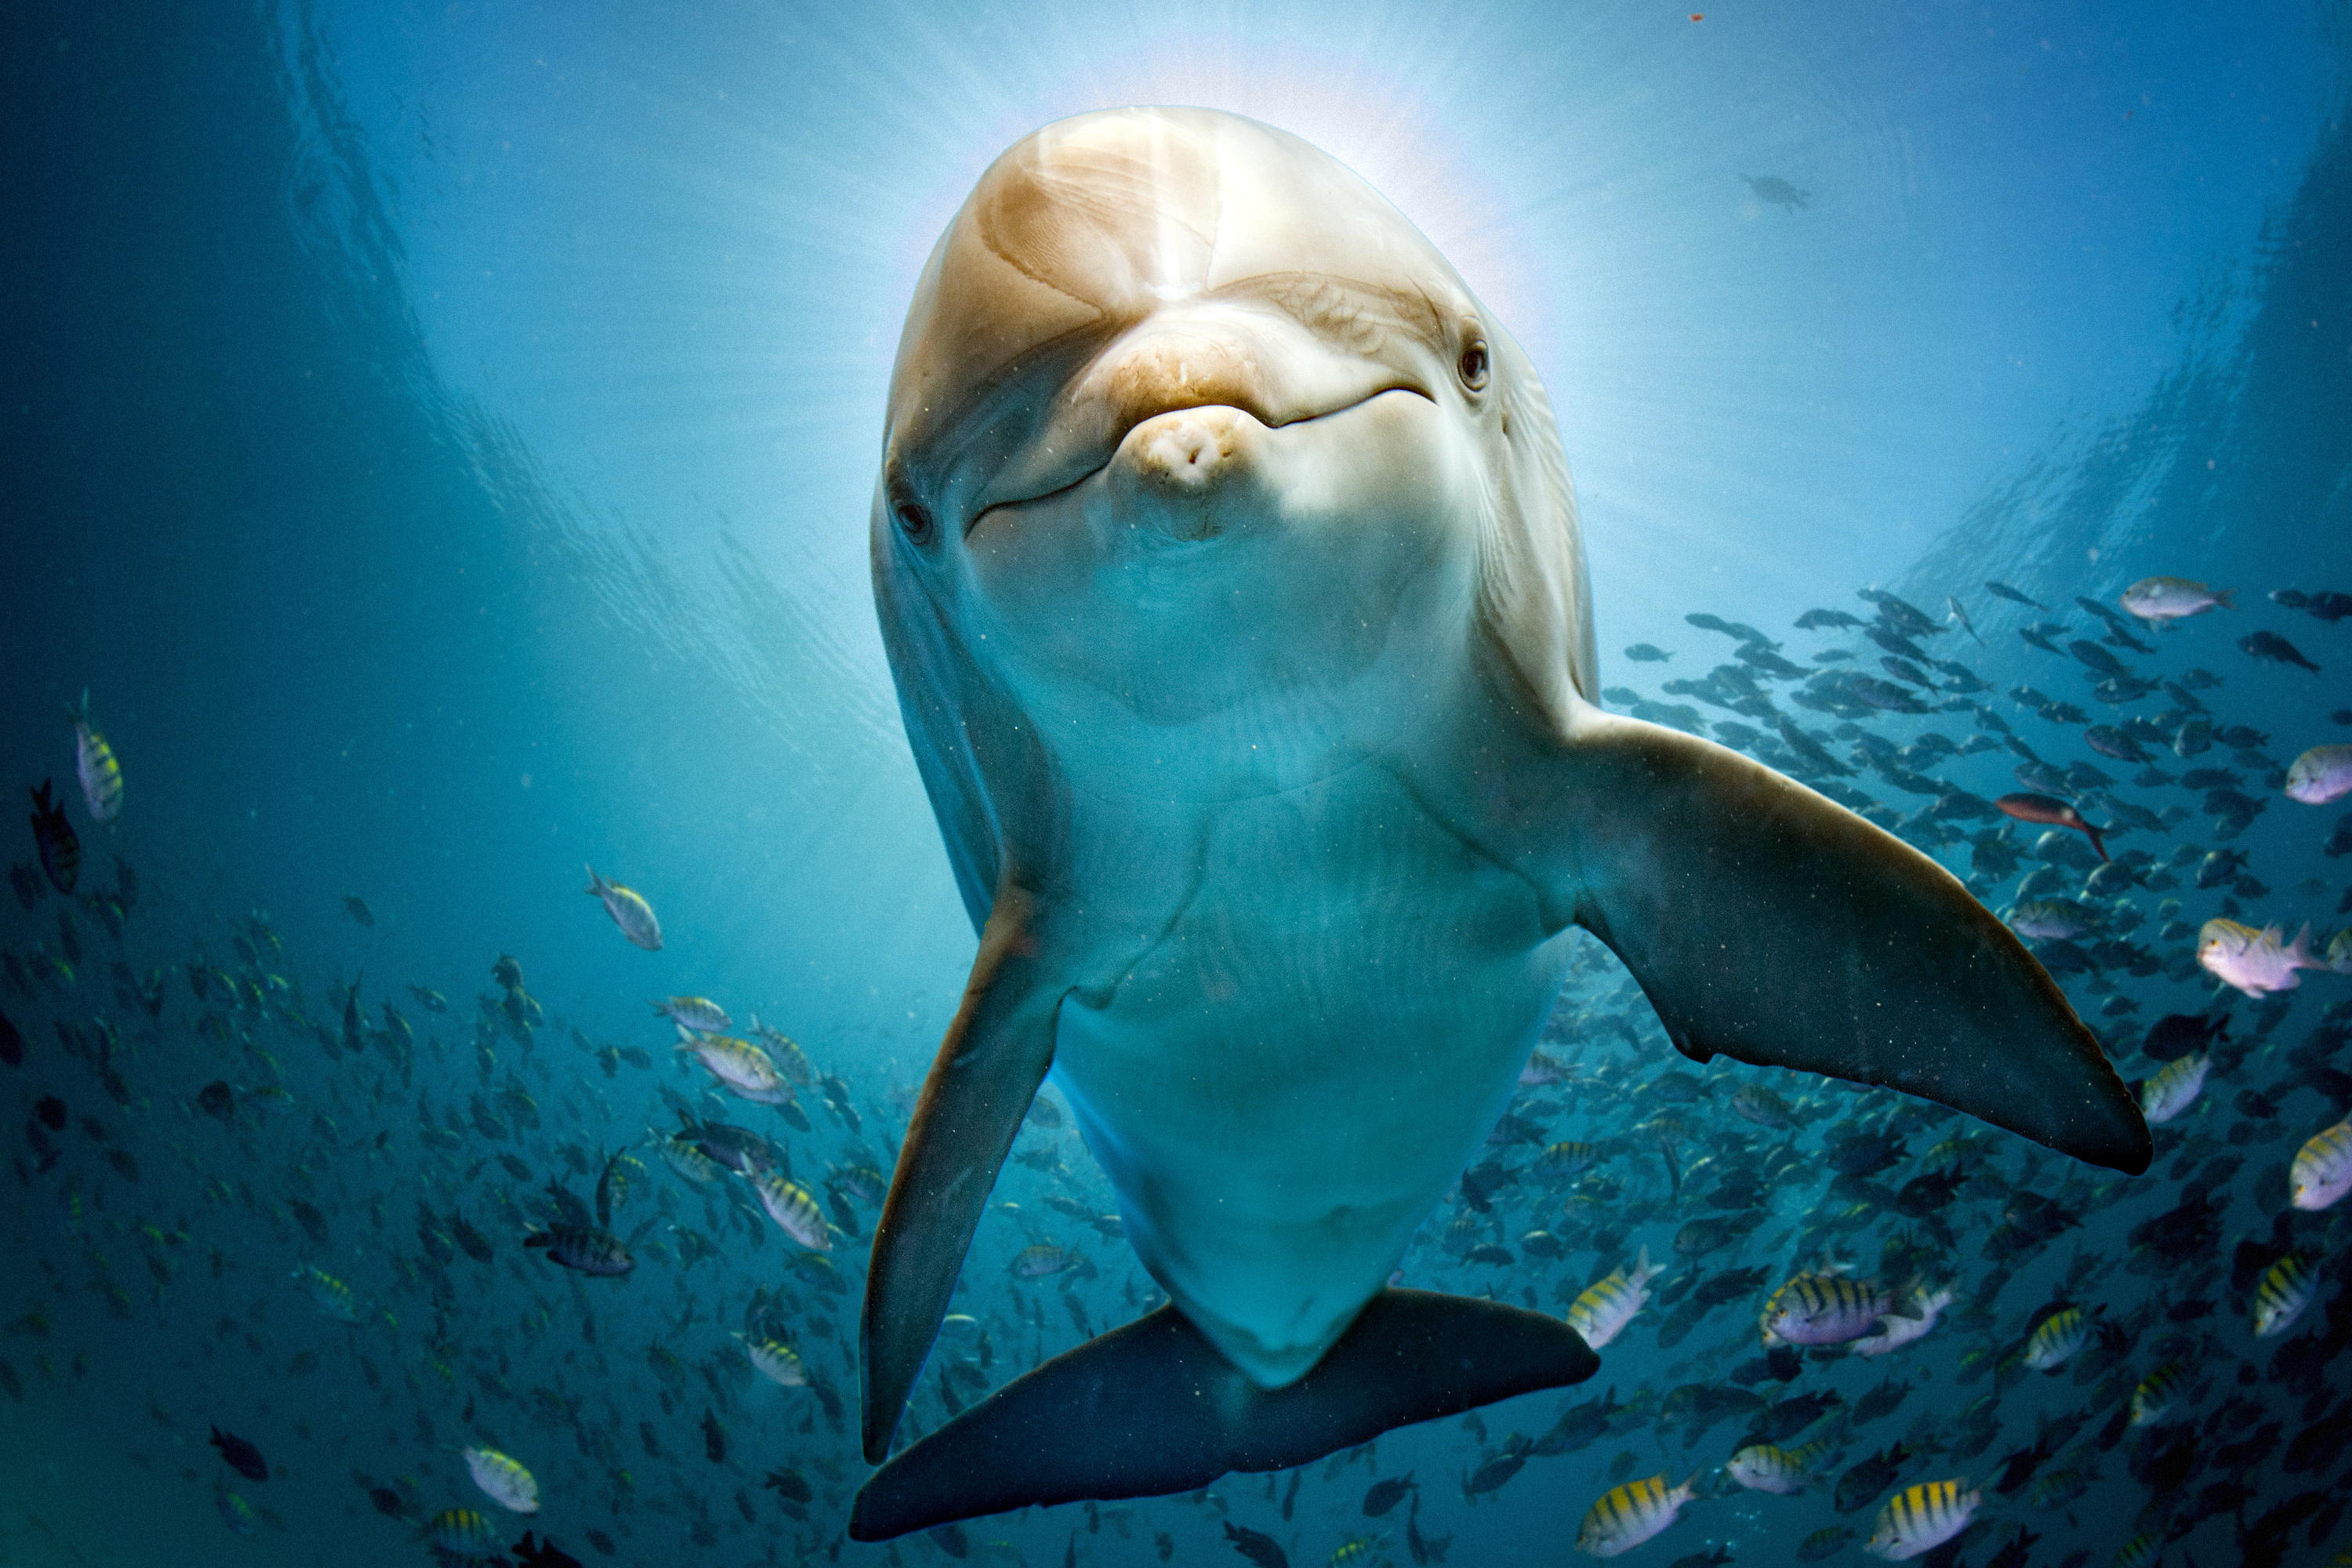dolphin: (746, 79, 2093, 1528)
fish: (2180, 912, 2347, 1006), (1542, 1248, 1657, 1363), (47, 686, 136, 833), (1549, 1475, 1708, 1556), (572, 856, 672, 971), (1768, 1270, 1890, 1349), (2116, 567, 2252, 637), (672, 1024, 779, 1099)
